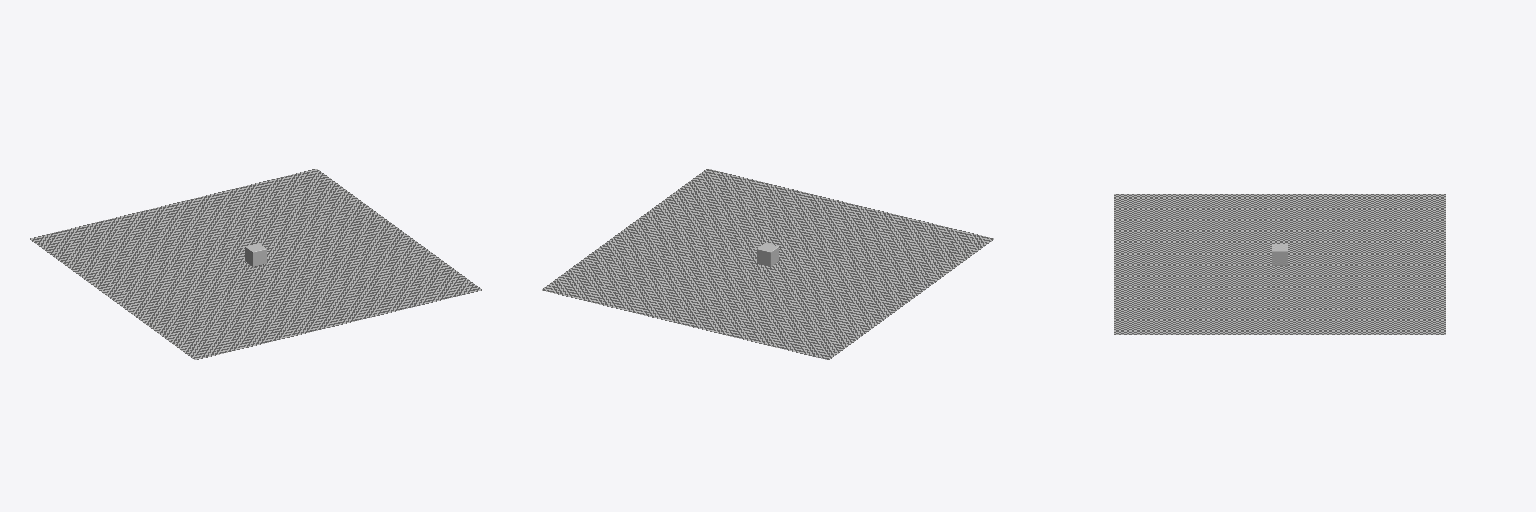
3 renders of one model, left to right at view 1: azimuth 30°, elevation 25°; view 2: azimuth 150°, elevation 25°; view 3: azimuth 270°, elevation 25°, orthographic.
Parts seen in each view (by area): view 1: Plane; view 2: Plane; view 3: Plane.
Part boxes in pixels (x1,y1,x2,y2): Plane: (30,169,481,359); Plane: (542,169,993,359); Plane: (1114,194,1445,334).
Size of the model in its own units: 40 by 2.25 by 40.
Materials: 4 (1 with a texture image).